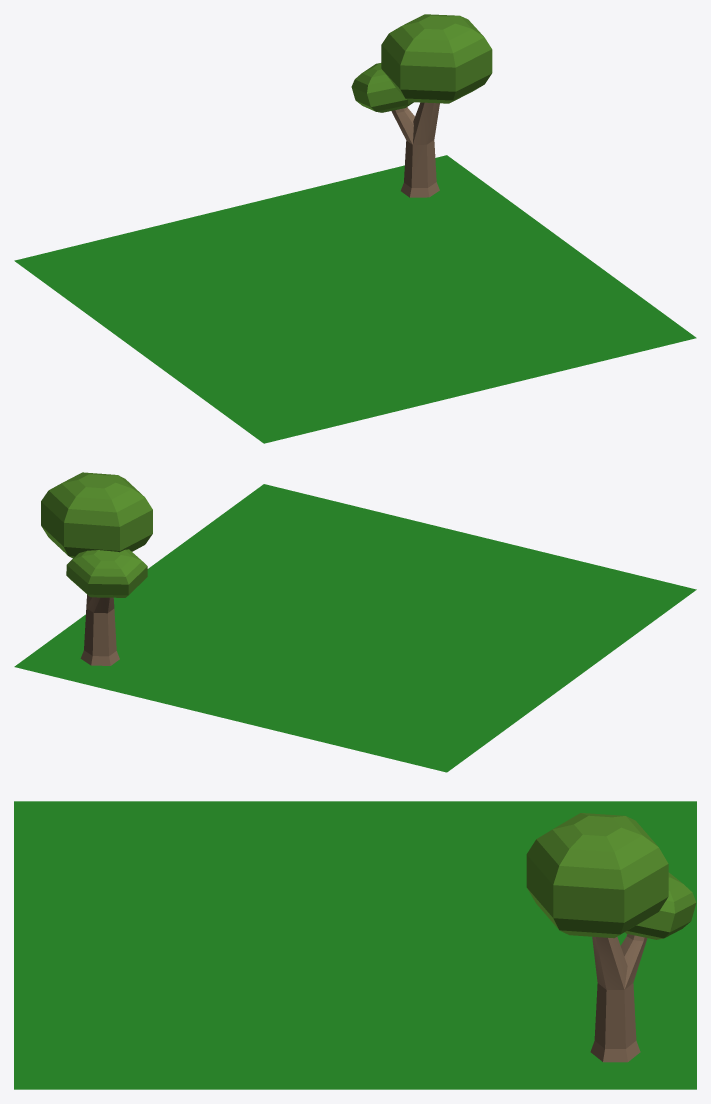
File: grasspatch_2x2.obj
3 views of the same model, one above another, from view 1: azimuth 30°, elevation 25°; view 2: azimuth 150°, elevation 25°; view 3: azimuth 270°, elevation 25° (orthographic). The views are drawn at different scales.
Parts seen in each view (by area): view 1: mergedBlocks; view 2: mergedBlocks; view 3: mergedBlocks.
Boxes of the visible parts, bbox=[...] form: mergedBlocks: bbox=[14, 14, 696, 443]; mergedBlocks: bbox=[14, 472, 696, 772]; mergedBlocks: bbox=[14, 801, 696, 1089].
Size of the model in its own units: 2 by 0.752 by 2.
Materials: 1 (1 with a texture image).
